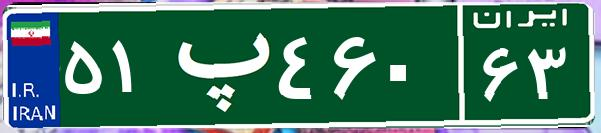0: (385, 28, 445, 110)
1: (110, 28, 158, 105)
3: (525, 38, 570, 115)
4: (273, 28, 330, 110)
5: (57, 26, 110, 107)
6: (330, 28, 385, 110), (475, 38, 525, 113)
پ: (158, 15, 273, 115)
